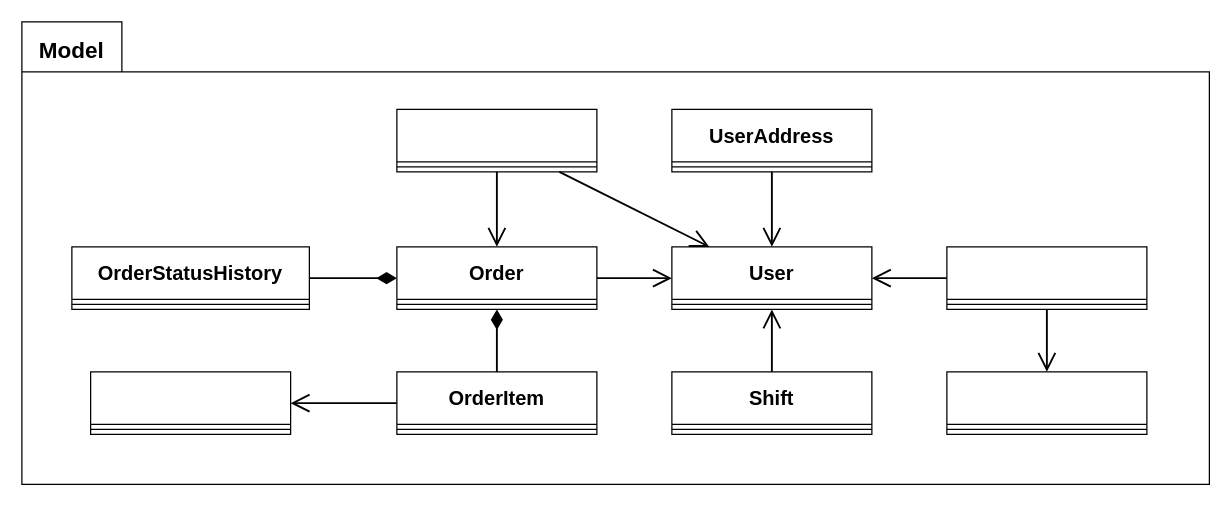
Some shapes in this 1231 by 506 pixel diagram are drawn without their labels. Each missing label, with the centre of its shape:
"Feedback" belongs at (x=496, y=140).
"Material" belongs at (x=1046, y=402).
"Product" belongs at (x=190, y=402).
"StockTransaction" belongs at (x=1046, y=277).
